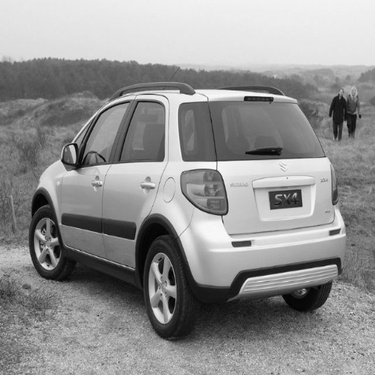car: (27, 73, 350, 342)
